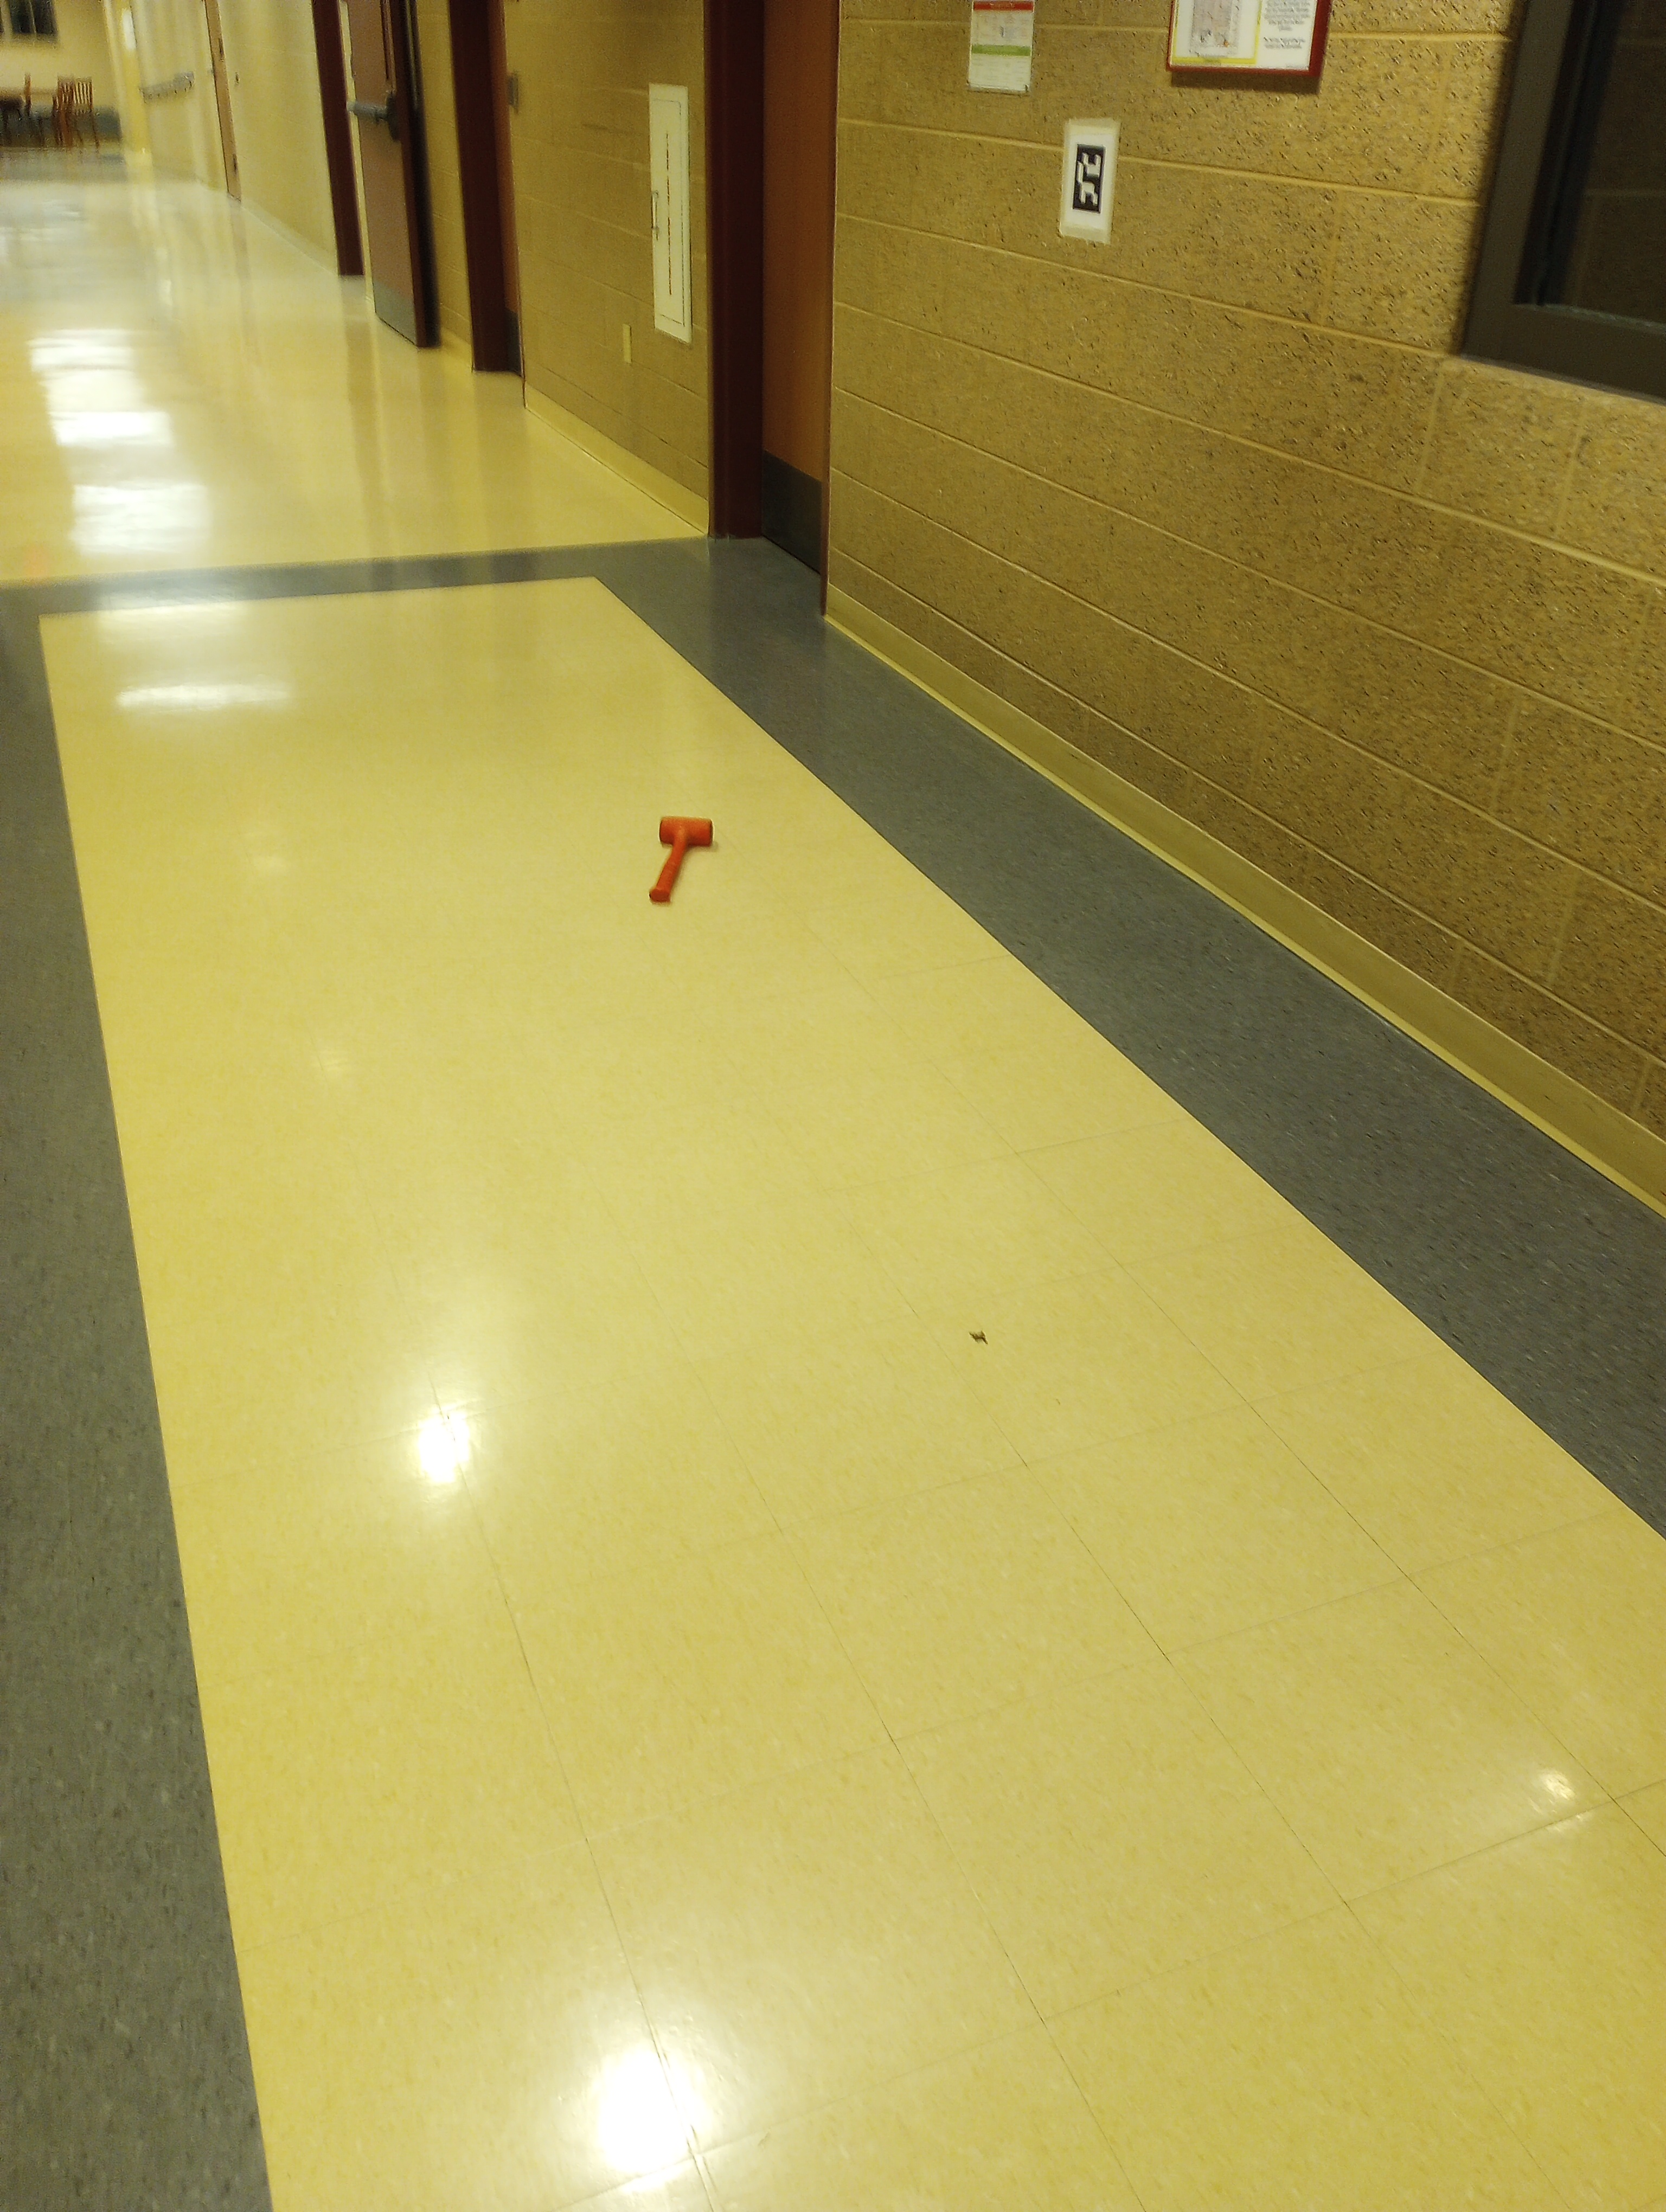hammer: (642, 799, 716, 918)
